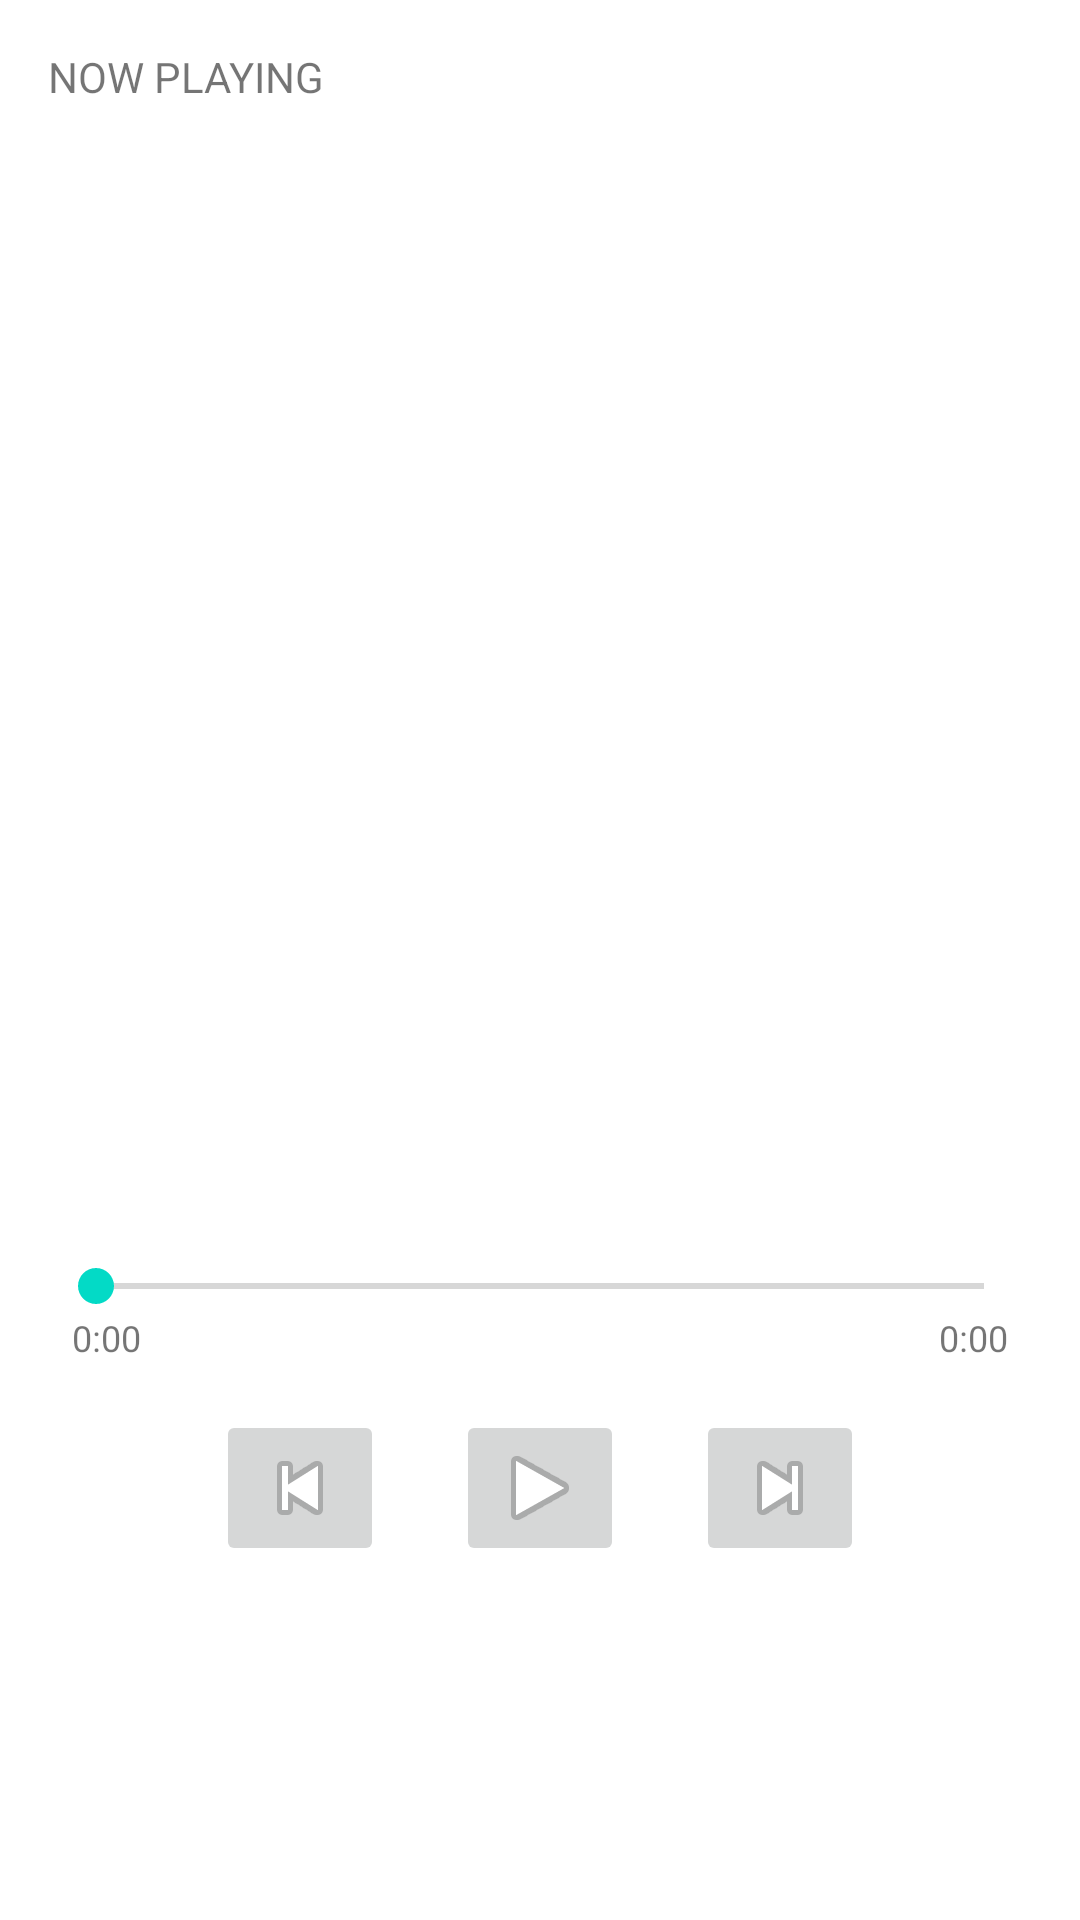

Screen size 1080x1920. Icon name, then its box in pixels as (x1, y1, x2, y2):
next: (708, 1428, 852, 1548)
play: (468, 1428, 612, 1548)
previous: (228, 1428, 372, 1548)
